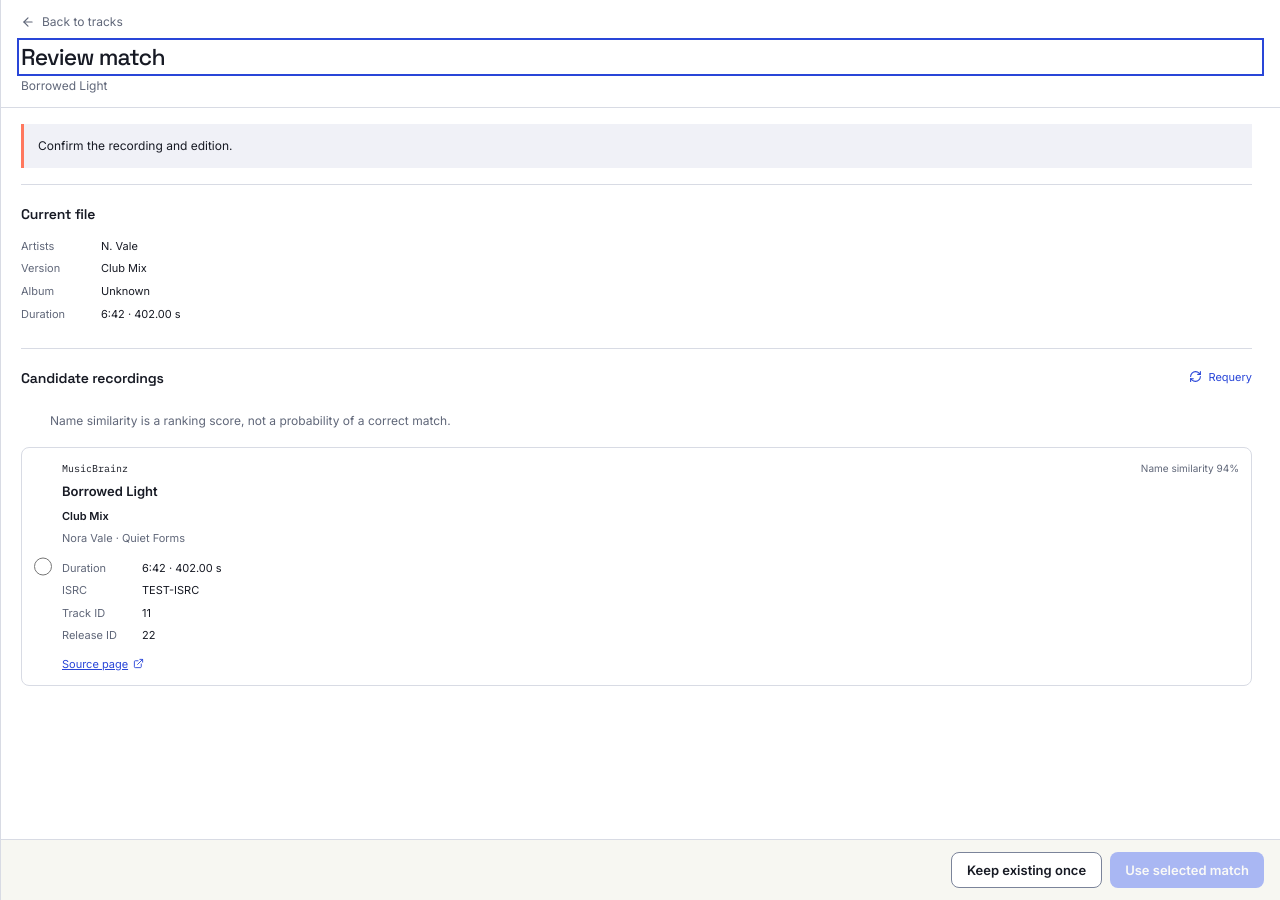
Scenario: match review evidence and decisions › keeps scoped MusicBrainz edition dates and credits visible as read-only evidence
The width and height of the screenshot is (1280, 900).
Click the radio button with aria-label "MusicBrainz · Borrowed Light · Club Mix". click: (43, 567)
box: [34,464,52,669]
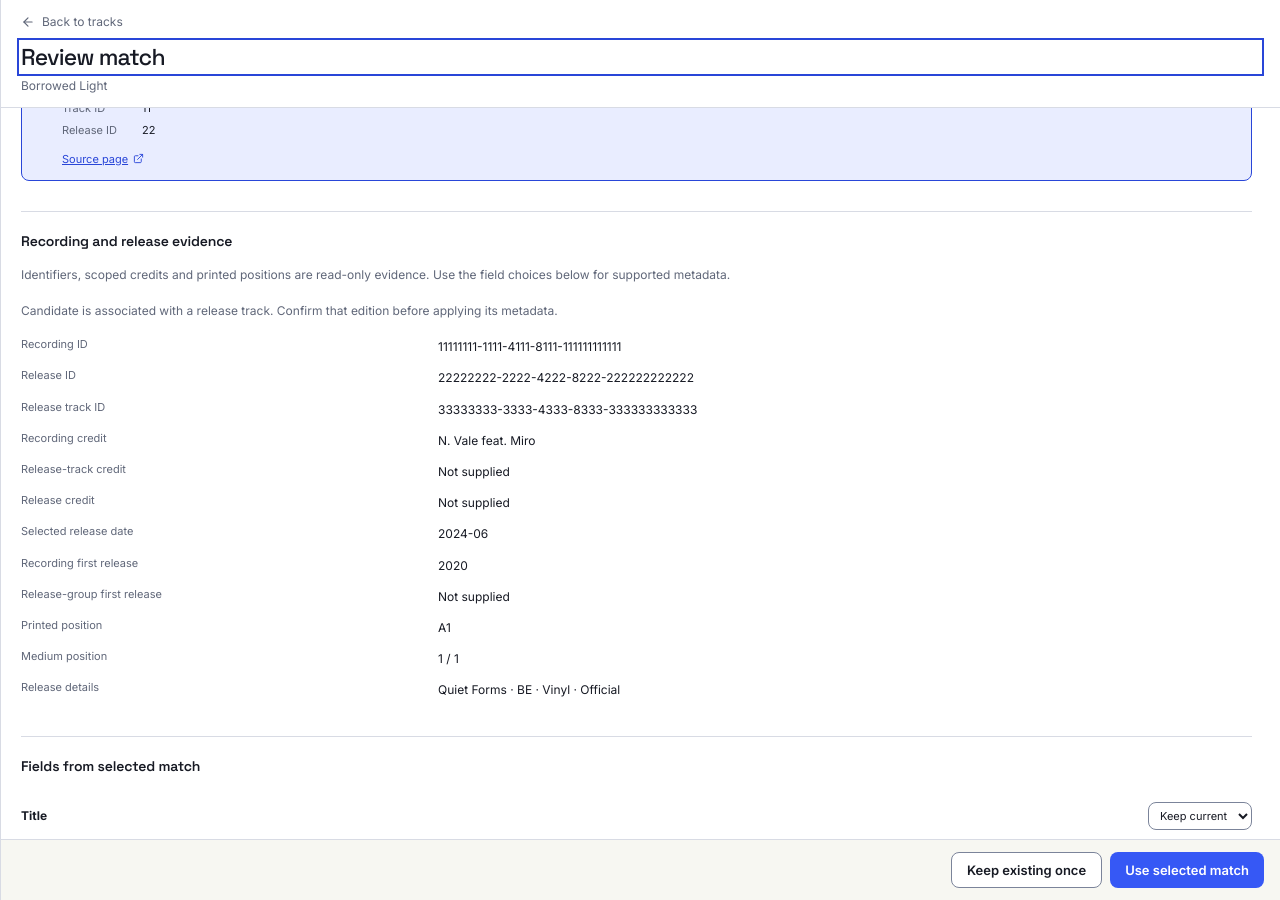
Check: the element "Recording and release evidence" shows "2024-06", box [438,526,488,541]
Check: the element "Recording and release evidence" shows "N. Vale feat. Miro", box [438,433,536,448]
Check: the element "Recording and release evidence" shows "read-only", box [21,267,730,282]
